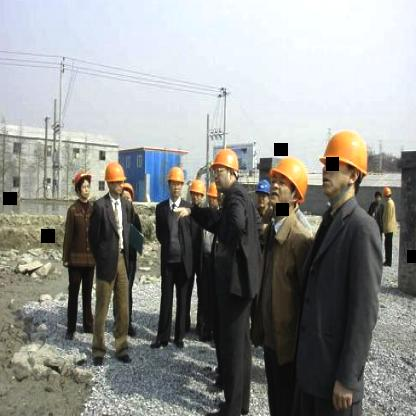helmet: (315, 128, 368, 206), (267, 153, 308, 215), (210, 146, 242, 196), (103, 160, 127, 201), (71, 166, 95, 204), (166, 164, 188, 204), (255, 174, 272, 214), (188, 176, 207, 210), (121, 182, 136, 210), (383, 184, 393, 204)
